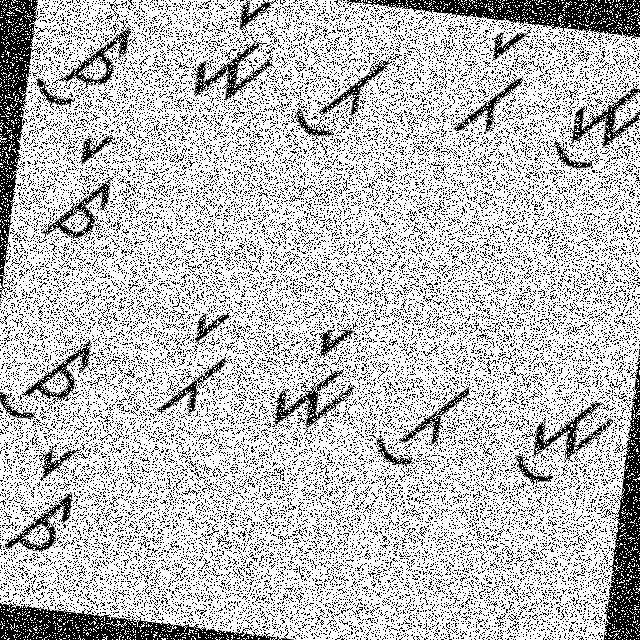bar: (449, 23, 534, 142)
baw: (368, 357, 476, 478), (287, 35, 394, 149)
car: (0, 431, 100, 570), (40, 122, 127, 244)
caw: (0, 313, 101, 430), (32, 12, 134, 122)
mar: (256, 311, 366, 440), (137, 298, 243, 424), (184, 0, 285, 112)
maw: (504, 380, 623, 494), (543, 64, 639, 177)
